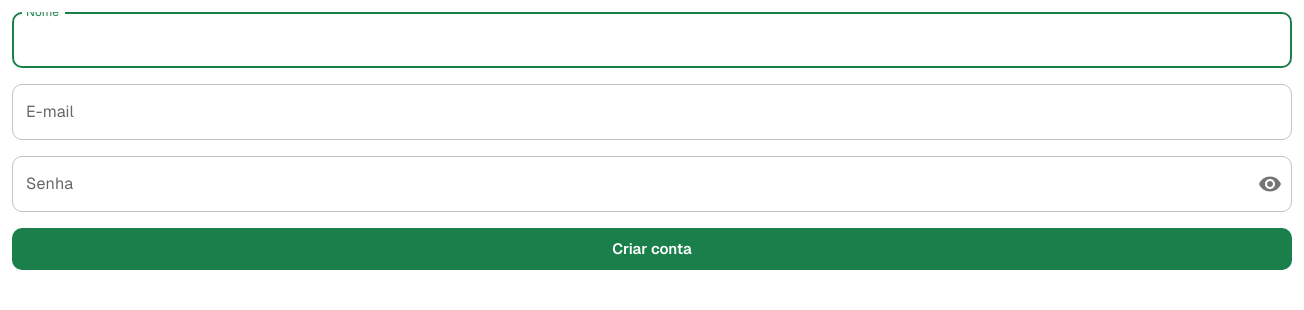
Test case: RegisterConsumerForm › maps EMAIL_ALREADY_EXISTS (422) onto the email field
Type "Maria Silva" into the field labelled "Nome" at point(652, 40), box [12,12,1292,68]
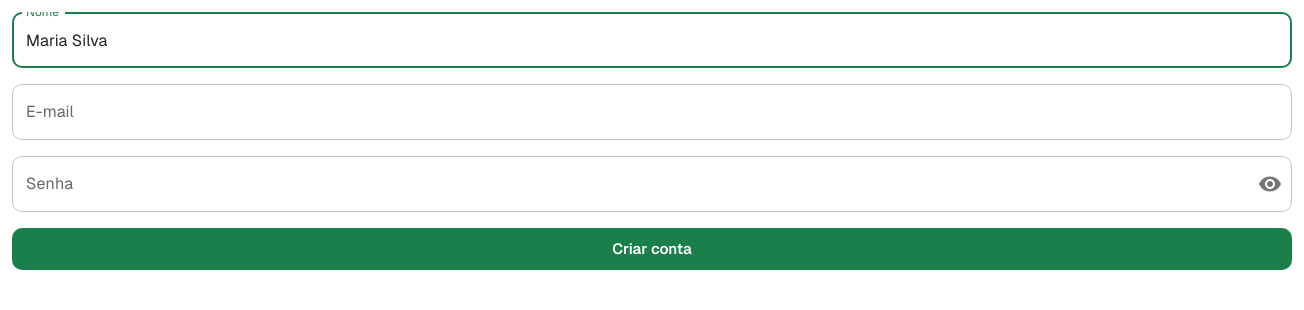
Type "maria@example.com" into the field labelled "E-mail" at point(652, 112), box [12,84,1292,140]
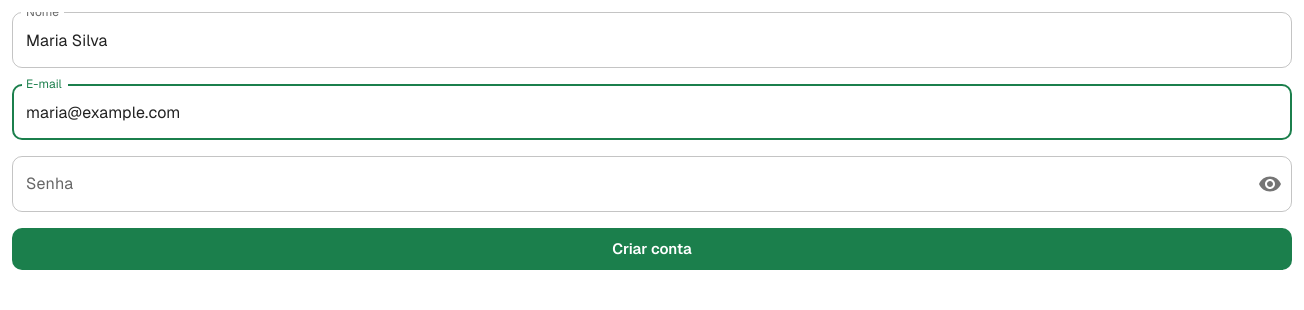
Type "secret" into the password field labelled "Senha" at point(627, 184), box [12,156,1242,212]
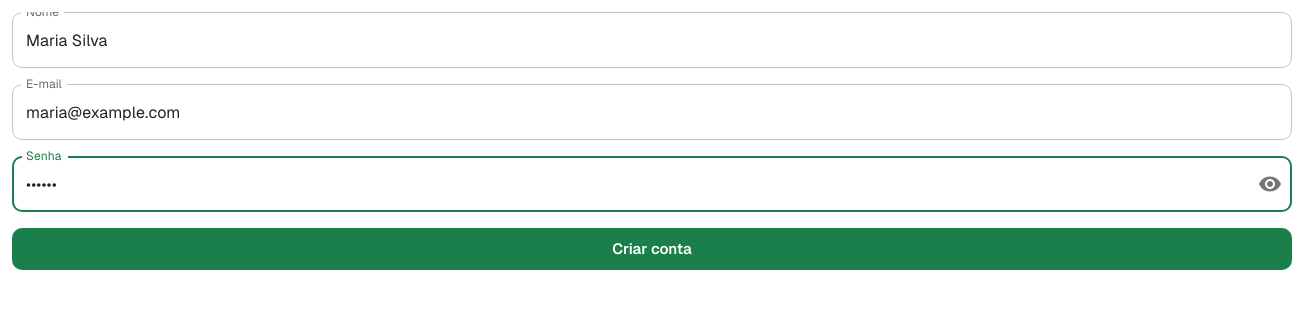
Click the button "Criar conta" at point(652, 249), box [12,228,1292,270]
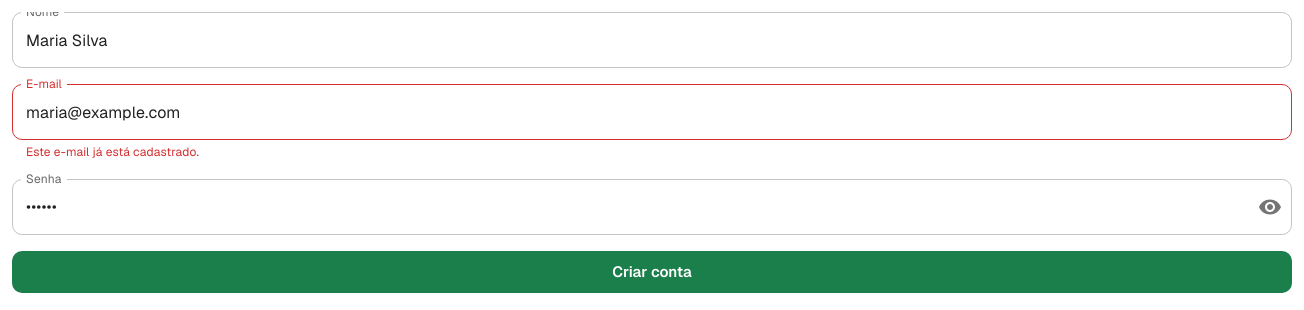
Check: the text "Este e-mail já está cadastrado." is shown, box [26,144,199,160]
